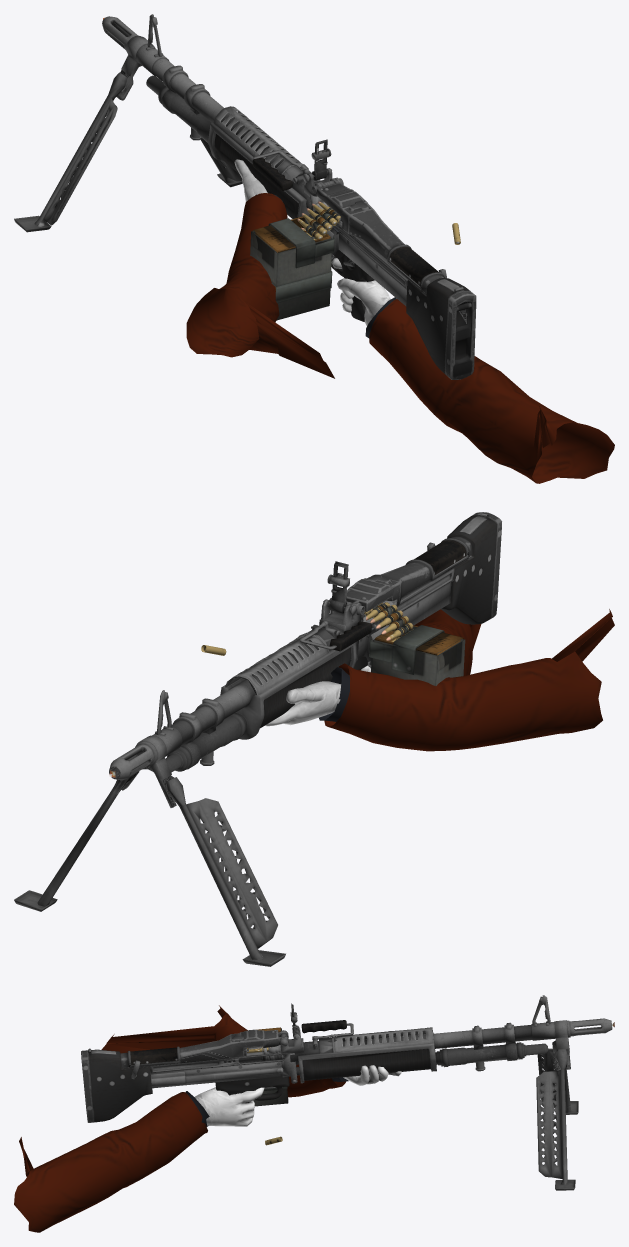
The model's file is frame_19.obj.
The picture shows the model from 3 angles, top to bottom: view 1: azimuth 30°, elevation 25°; view 2: azimuth 150°, elevation 25°; view 3: azimuth 270°, elevation 25°; orthographic projection. The views are drawn at different scales.
Visible parts, largest first — view 1: Mesh.005, PlayerModelMerged.001_PlayerModelMerged, Mesh.001; view 2: Mesh.005, PlayerModelMerged.001_PlayerModelMerged, Mesh.001; view 3: Mesh.005, PlayerModelMerged.001_PlayerModelMerged.
Part boxes in pixels (box(x1,y1,x2,y2)): Mesh.005: box(14, 14, 476, 379); PlayerModelMerged.001_PlayerModelMerged: box(186, 159, 614, 483); Mesh.001: box(297, 201, 340, 239); Mesh.005: box(14, 512, 501, 966); PlayerModelMerged.001_PlayerModelMerged: box(265, 609, 614, 751); Mesh.001: box(366, 602, 413, 640); Mesh.005: box(81, 995, 612, 1190); PlayerModelMerged.001_PlayerModelMerged: box(14, 1005, 401, 1232).
Size of the model in its own units: 0.9933 by 0.7804 by 2.15.
